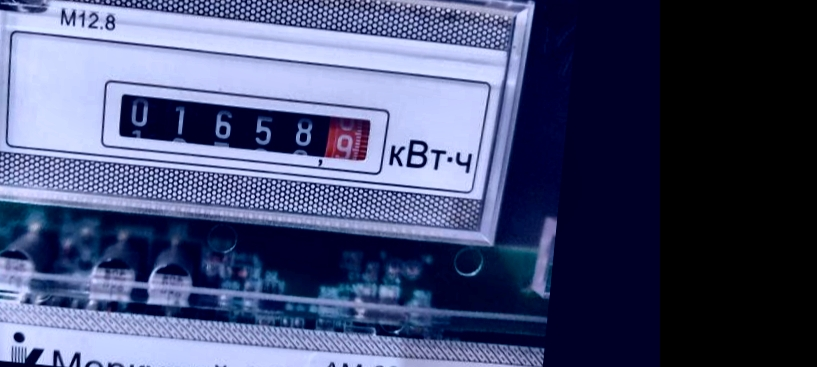0: (128, 96, 151, 128)
1: (170, 103, 190, 137)
5: (252, 113, 276, 146)
6: (212, 106, 235, 141)
8: (293, 114, 316, 148)
9: (332, 132, 355, 162)
screen: (89, 71, 396, 182)
